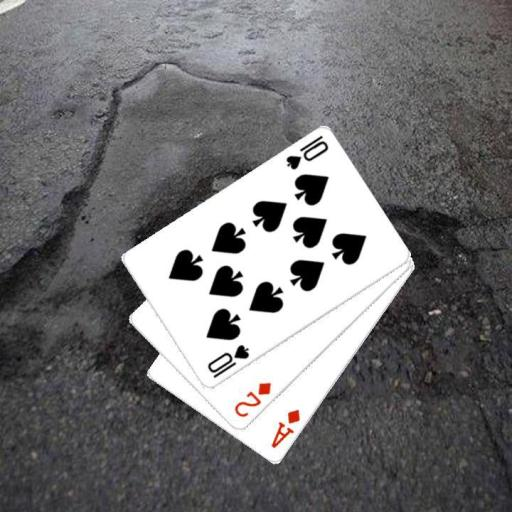10S: (203, 342, 251, 381), (282, 133, 330, 172)
2D: (230, 379, 273, 420)
AD: (268, 406, 303, 450)
